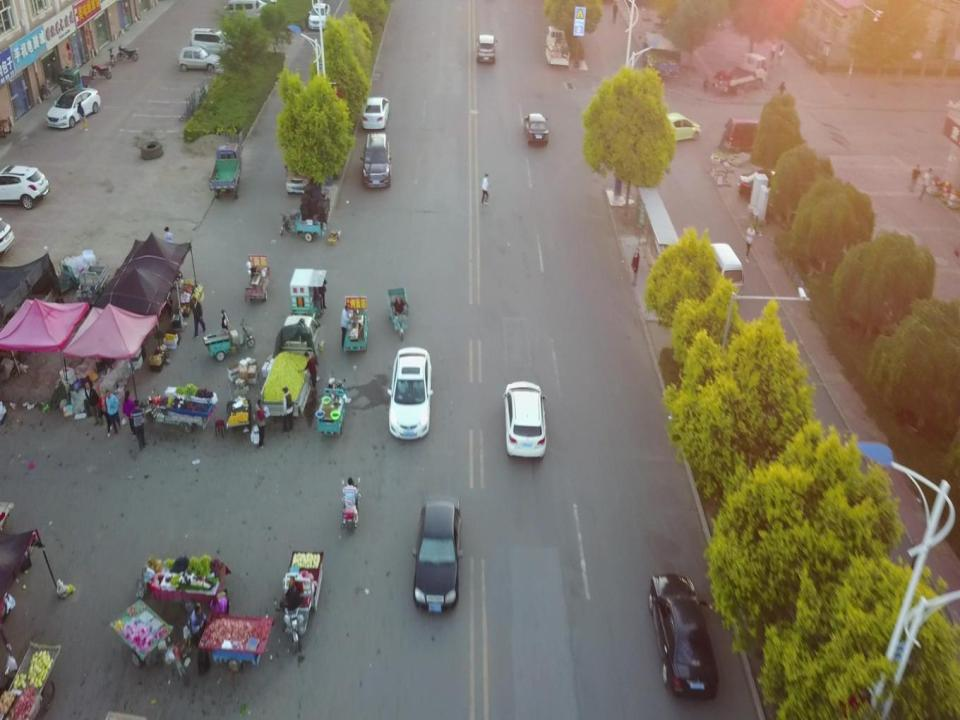car: (648, 572, 719, 700), (413, 494, 462, 612), (386, 346, 432, 439), (502, 382, 546, 459), (0, 165, 49, 209), (47, 88, 100, 128), (738, 167, 795, 204), (359, 133, 392, 188), (654, 113, 702, 142), (179, 47, 220, 73), (362, 96, 390, 129), (524, 112, 548, 146), (475, 34, 498, 64), (308, 4, 329, 32)
truck: (260, 314, 322, 418), (713, 54, 767, 95), (638, 31, 680, 83), (209, 142, 242, 200), (545, 26, 569, 66), (59, 69, 93, 94)
van: (701, 242, 744, 305), (724, 118, 772, 152), (190, 28, 234, 56), (284, 149, 310, 194), (222, 0, 260, 24)
